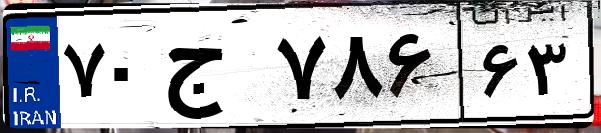0: (110, 28, 158, 98)
3: (525, 38, 570, 115)
6: (385, 28, 445, 110), (475, 38, 525, 113)
7: (270, 28, 330, 110), (57, 26, 110, 100)
8: (330, 28, 385, 110)
ج: (158, 20, 270, 120)
